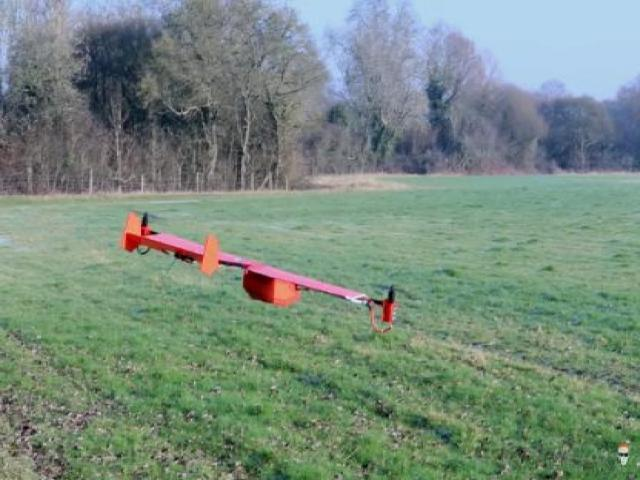uav: (121, 207, 368, 308)
